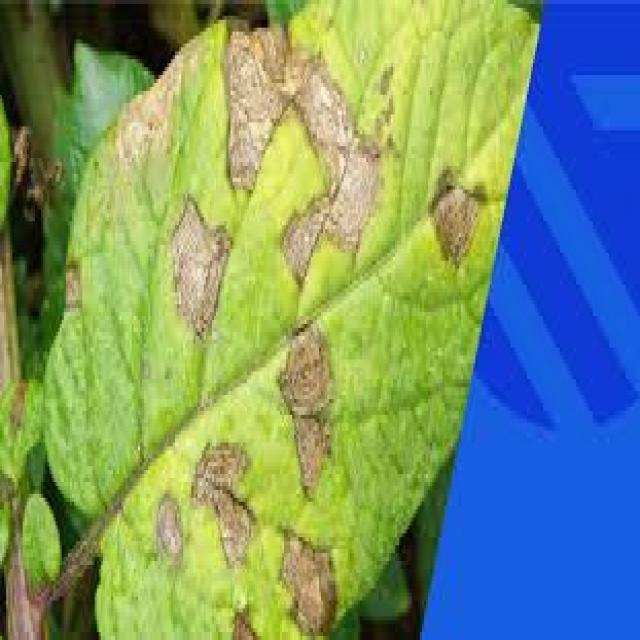earlyblight: (226, 31, 377, 280), (280, 324, 331, 488), (173, 199, 230, 335), (193, 446, 253, 565), (283, 533, 336, 632), (431, 170, 485, 265), (156, 494, 180, 565), (233, 607, 256, 640), (65, 264, 81, 308)
